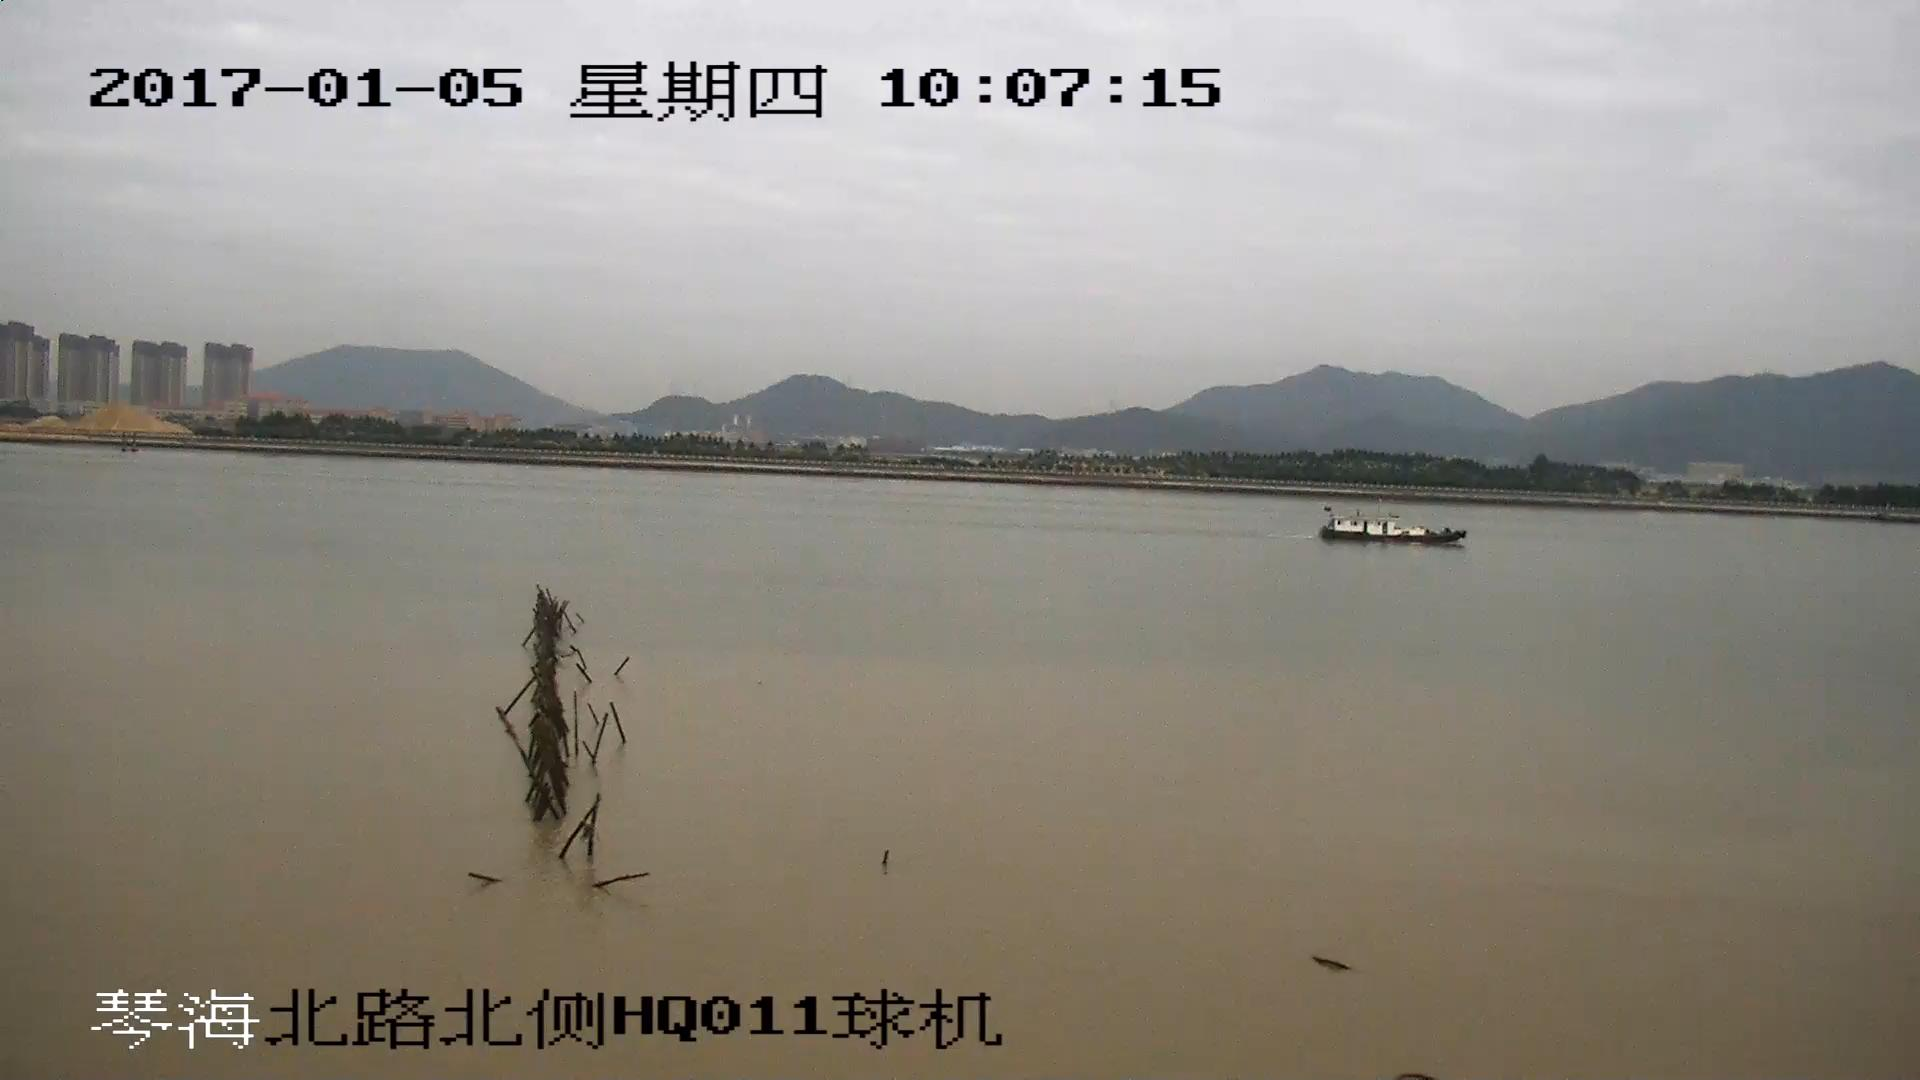fishing boat: (1324, 508, 1464, 545)
